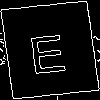E: (25, 25, 69, 75)
